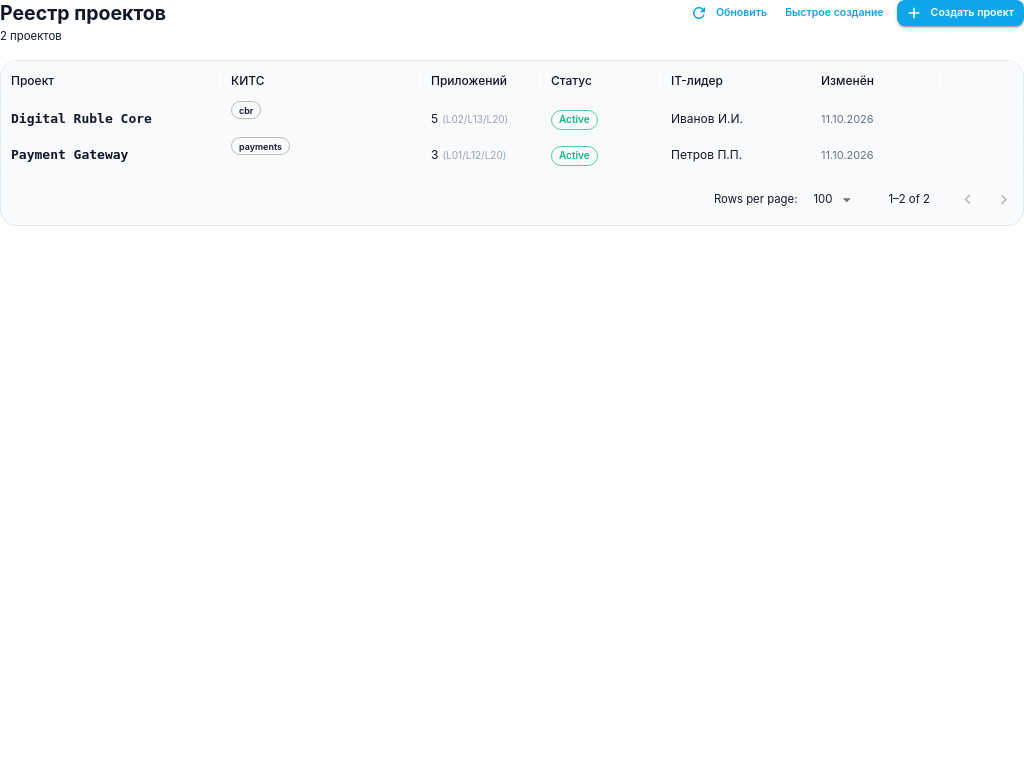
Scenario: FR-003: Projects Overview & Registry › ProjectsRegistry: рендерит реестр с кнопкой и модалкой создания
Expected: the heading "Реестр проектов" is shown, top-left (0, 0), bottom-right (166, 26)
Expected: the button "Создать проект" is shown, top-left (897, 0), bottom-right (1023, 26)
# Open create modal via "Быстрое создание" button
Click the button "Быстрое создание".
click(834, 13)  # box top-left (780, 0), bottom-right (889, 26)
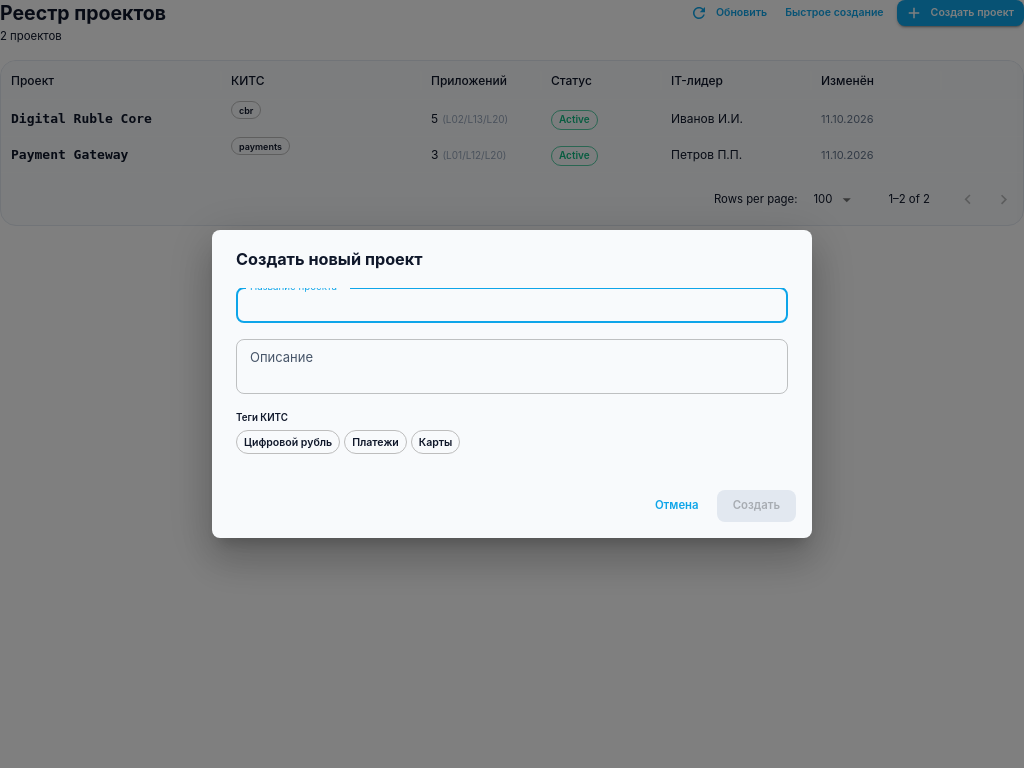
Result: the heading "Создать новый проект" is shown at top-left (236, 249), bottom-right (423, 269)
Result: the button "Создать" is shown at top-left (717, 490), bottom-right (796, 522)
